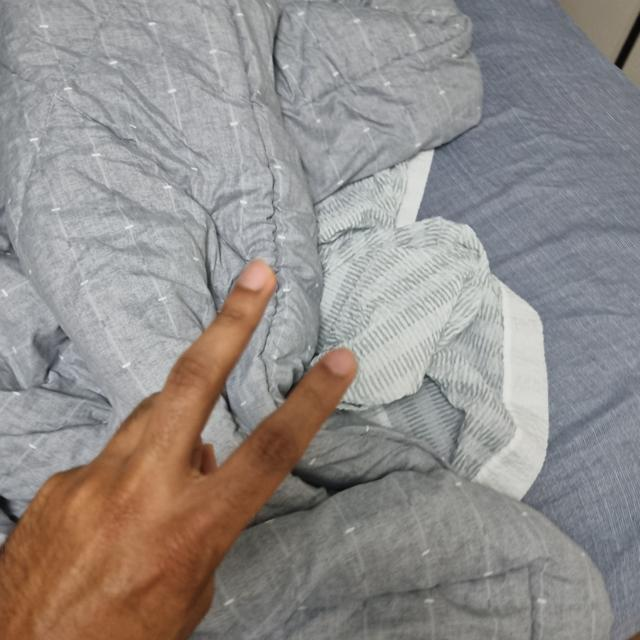Scissors: (0, 267, 356, 639)
